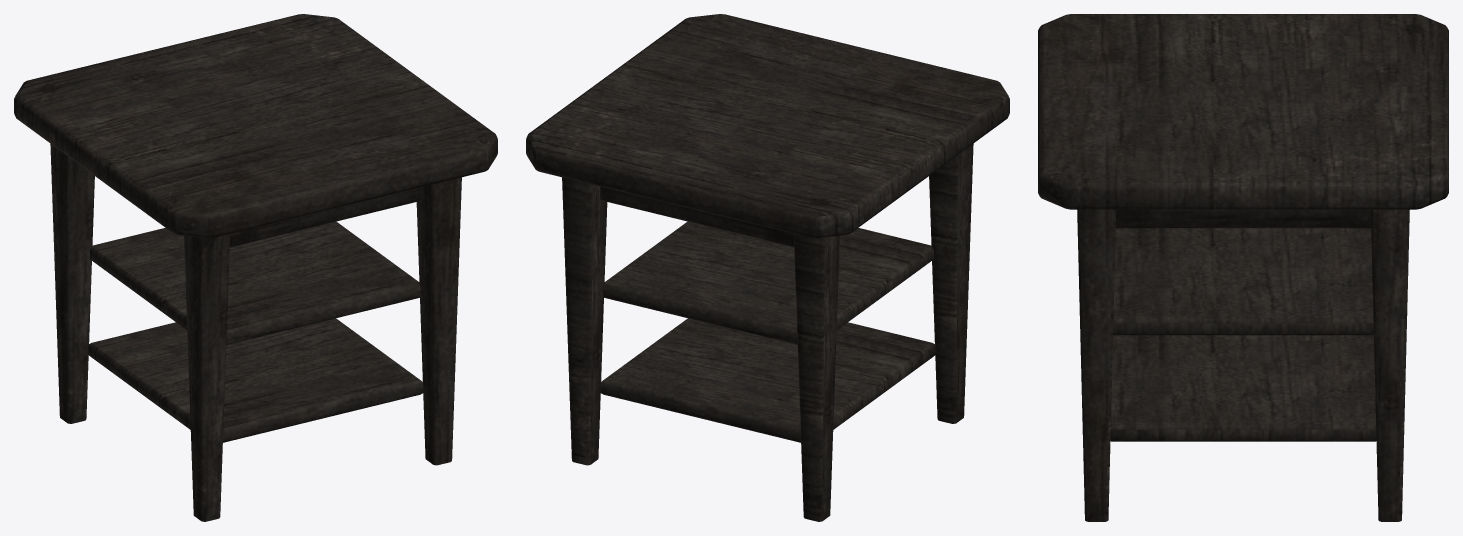
The model's file is table_small_2.obj.
The picture shows the model from 3 angles, left to right: view 1: azimuth 30°, elevation 25°; view 2: azimuth 150°, elevation 25°; view 3: azimuth 270°, elevation 25°; orthographic projection. The views are drawn at different scales.
Parts seen in each view (by area): view 1: table_small_2; view 2: table_small_2; view 3: table_small_2.
Boxes of the visible parts, bbox=[...] form: table_small_2: bbox=[14, 14, 497, 521]; table_small_2: bbox=[526, 14, 1009, 521]; table_small_2: bbox=[1038, 14, 1448, 521].
Size of the model in its own units: 0.7 by 0.67 by 0.7.
